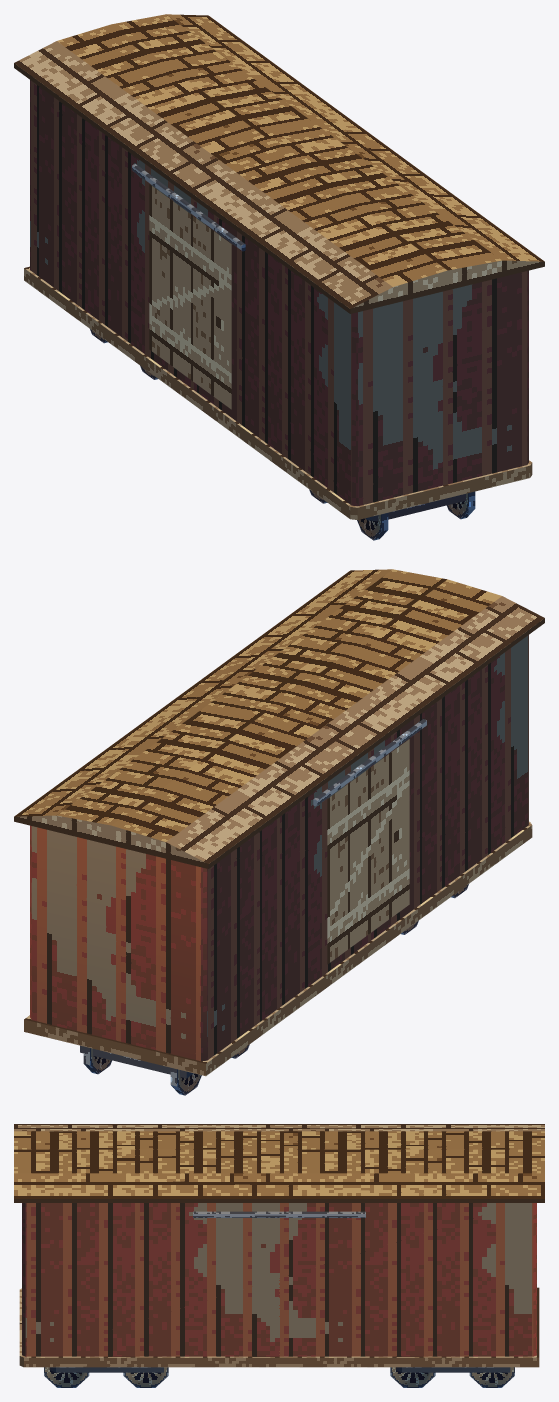
The model's file is wrail.car.glb.
3 views of the same model, one above another, from view 1: azimuth 30°, elevation 25°; view 2: azimuth 150°, elevation 25°; view 3: azimuth 270°, elevation 25° (orthographic). The views are drawn at different scales.
Visible parts, largest first — view 1: kit_body, kit_roof, kit_card_doors, kit_frame, kit_wheels, kit_door_track, kit_trucks; view 2: kit_body, kit_roof, kit_card_doors, kit_frame, kit_wheels, kit_door_track, kit_trucks; view 3: kit_body, kit_roof, kit_frame, kit_wheels, kit_trucks, kit_door_track.
Boxes of the visible parts, x1,y1,x2,y2 form: kit_body: (30,80,528,506); kit_roof: (14,14,544,313); kit_card_doors: (149,184,231,409); kit_frame: (24,266,532,519); kit_wheels: (90,329,475,540); kit_door_track: (132,164,245,251); kit_trucks: (365,494,465,521); kit_body: (30,635,528,1061); kit_roof: (14,569,544,868); kit_card_doors: (327,739,409,964); kit_frame: (24,821,532,1076); kit_wheels: (83,884,468,1095); kit_door_track: (313,719,426,806); kit_trucks: (80,1045,193,1078); kit_body: (22,1203,536,1356); kit_roof: (14,1124,544,1202); kit_frame: (19,1287,539,1367); kit_wheels: (44,1367,514,1387); kit_trucks: (49,1367,510,1372); kit_door_track: (193,1211,365,1217).
Bounding box in the file's own units: 2.46 × 3.37 × 7.36.
7 materials, 7 textured.
